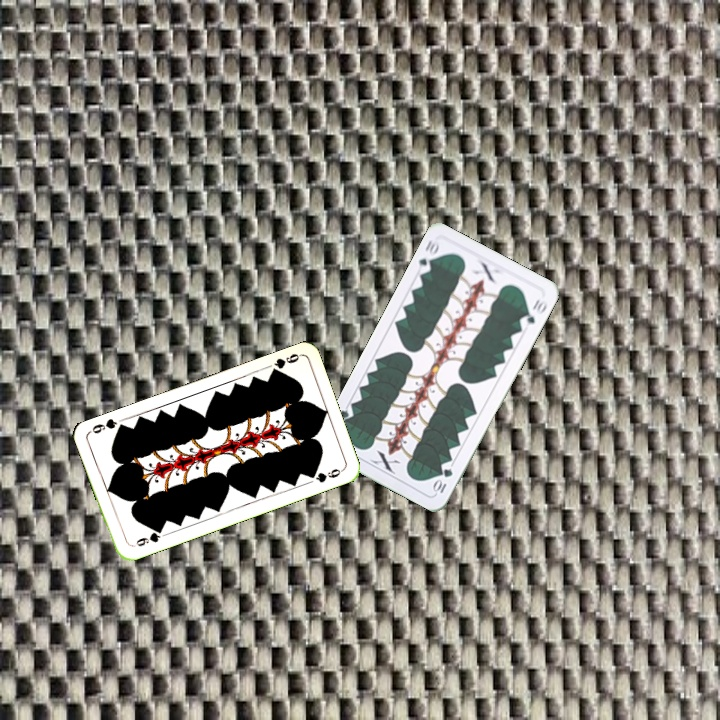G10: (413, 235, 442, 276), (429, 464, 455, 496)
G9: (266, 350, 303, 377), (132, 525, 165, 549)
